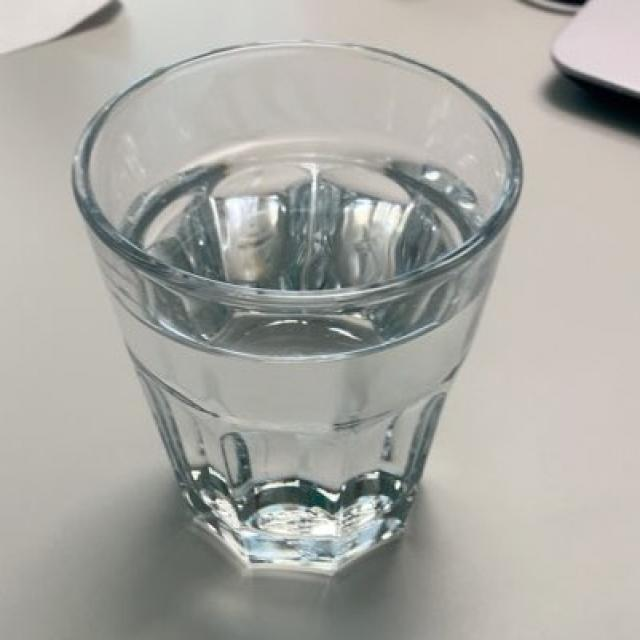water: (108, 135, 489, 555)
